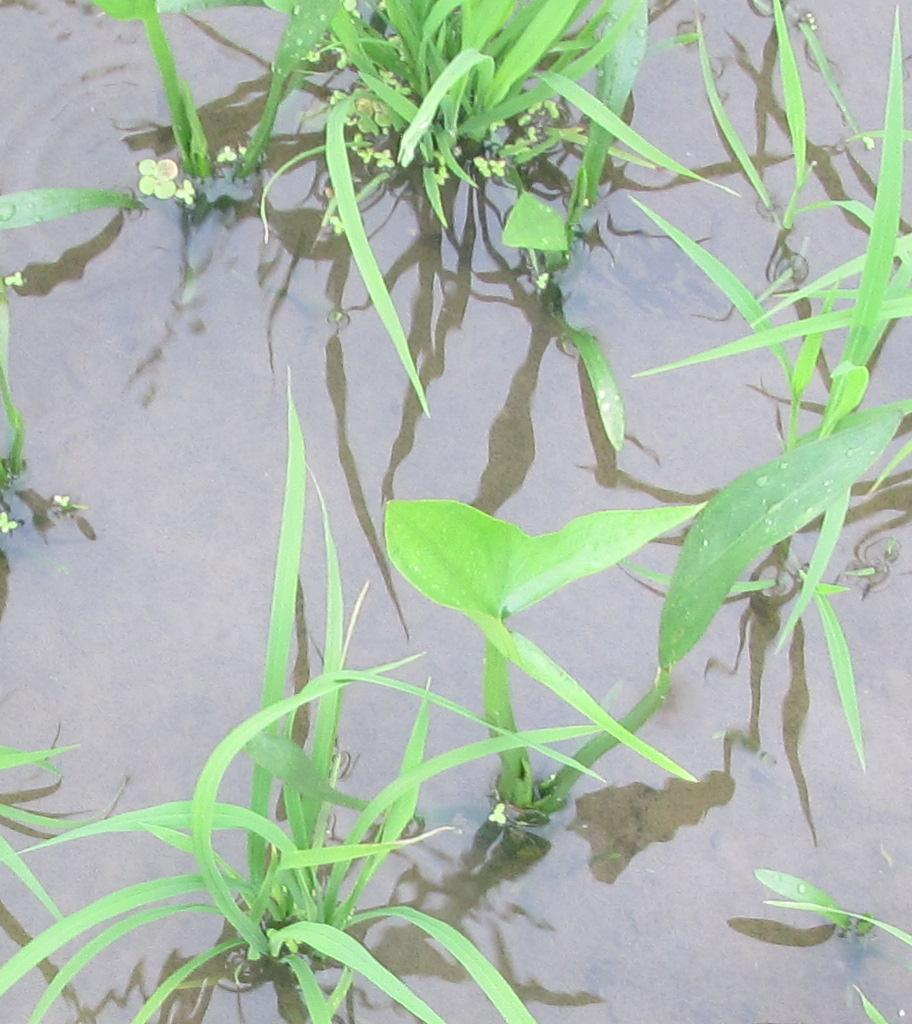Weed: (378, 497, 714, 800), (342, 100, 399, 175), (132, 153, 197, 213)
